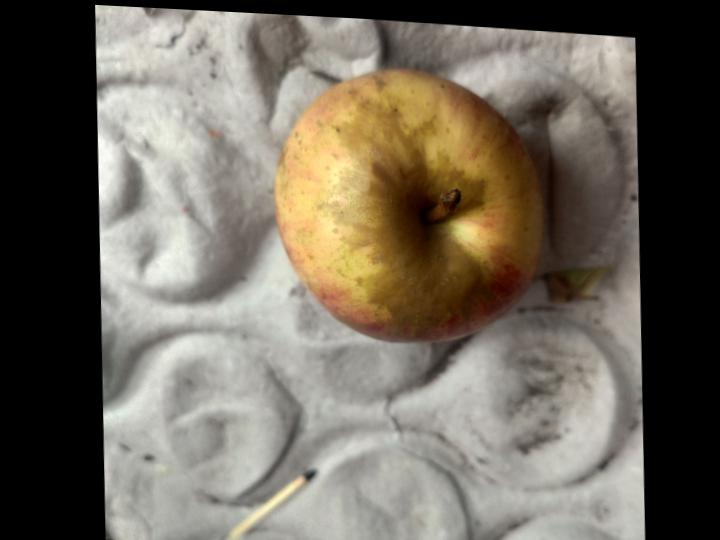apple: (275, 69, 542, 341)
bruise_discoloration: (314, 91, 495, 341)
